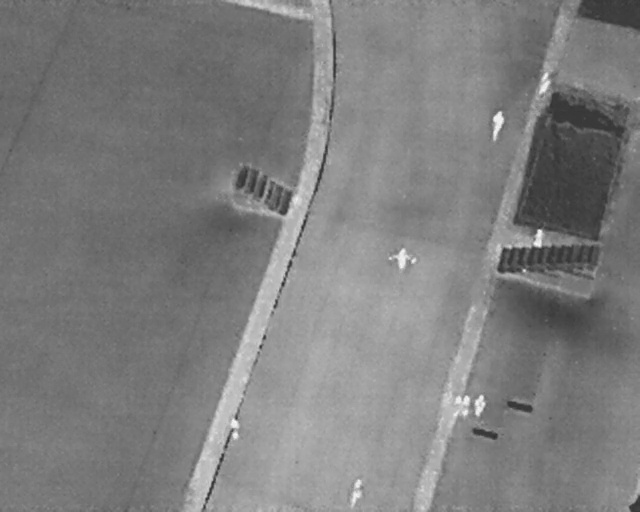Person: (385, 243, 419, 274), (488, 107, 507, 146), (348, 476, 366, 510), (534, 68, 554, 98), (530, 225, 547, 250), (472, 391, 487, 419), (227, 415, 242, 442), (452, 392, 463, 419), (462, 393, 471, 417)
